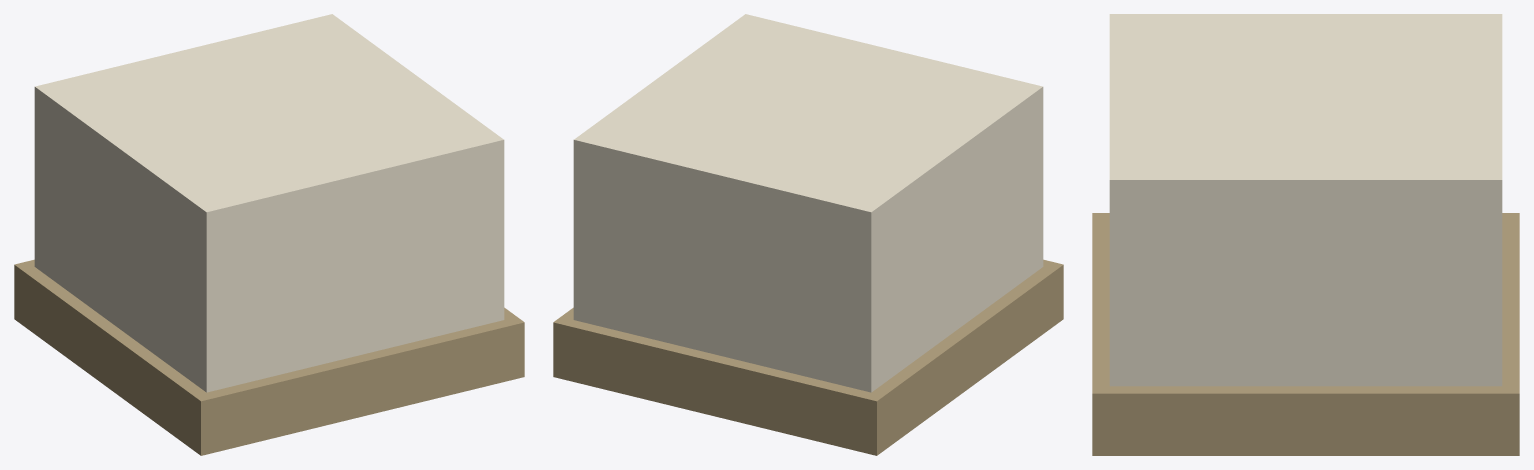
Rendered from safari_manga_inf.glb.
3 views of the same model, side by side, from view 1: azimuth 30°, elevation 25°; view 2: azimuth 150°, elevation 25°; view 3: azimuth 270°, elevation 25° (orthographic). The views are drawn at different scales.
Visible parts, largest first — view 1: safari_manga_inf; view 2: safari_manga_inf; view 3: safari_manga_inf.
Boxes of the visible parts, box(x1,y1,x2,y2) form: safari_manga_inf: box(14, 14, 524, 455); safari_manga_inf: box(553, 14, 1063, 455); safari_manga_inf: box(1092, 14, 1519, 455).
Bounding box in the file's own units: 0.31 × 0.215 × 0.31.
